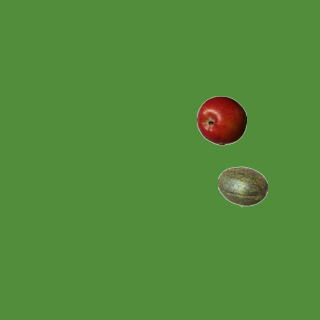Apple Braeburn: (196, 95, 246, 145)
Melon Piel de Sapo: (217, 161, 267, 211)
